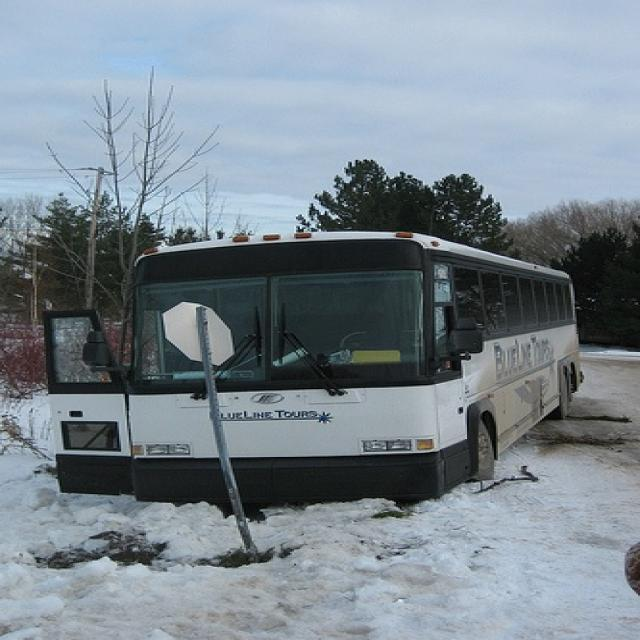bus: (41, 232, 586, 503)
pole: (194, 304, 261, 560)
